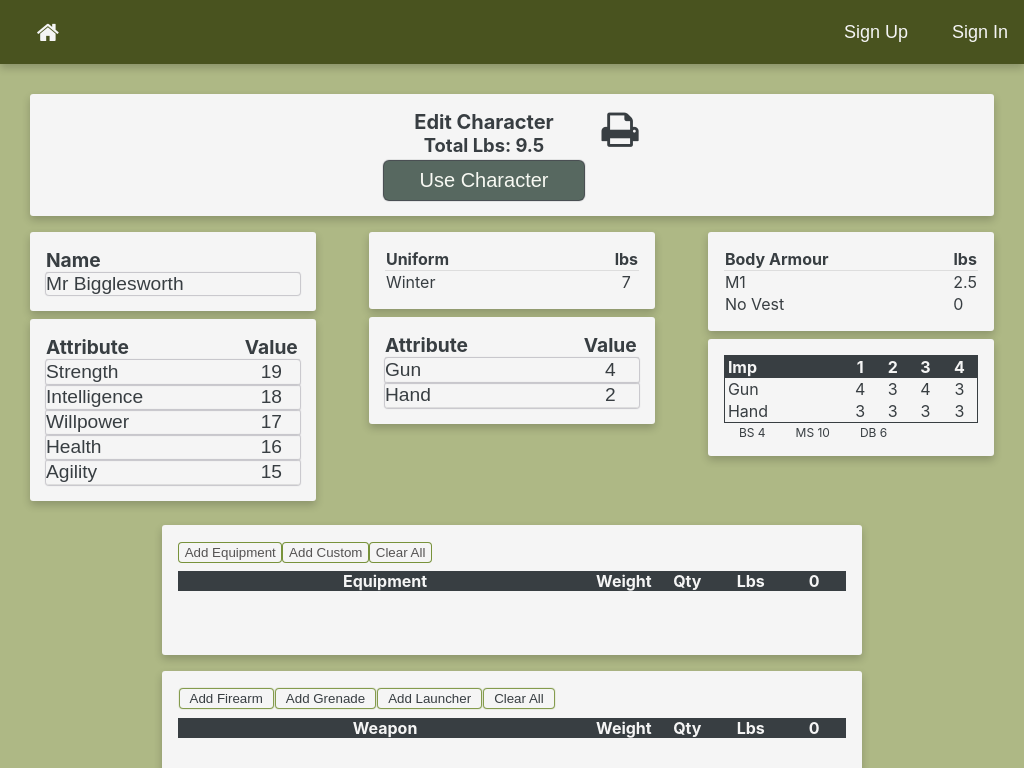
Scenario: Create Character › should add body armour
This screenshot has width=1024, height=768.
Click the text "No Vest" at (755, 304), box [724,293,953,315]
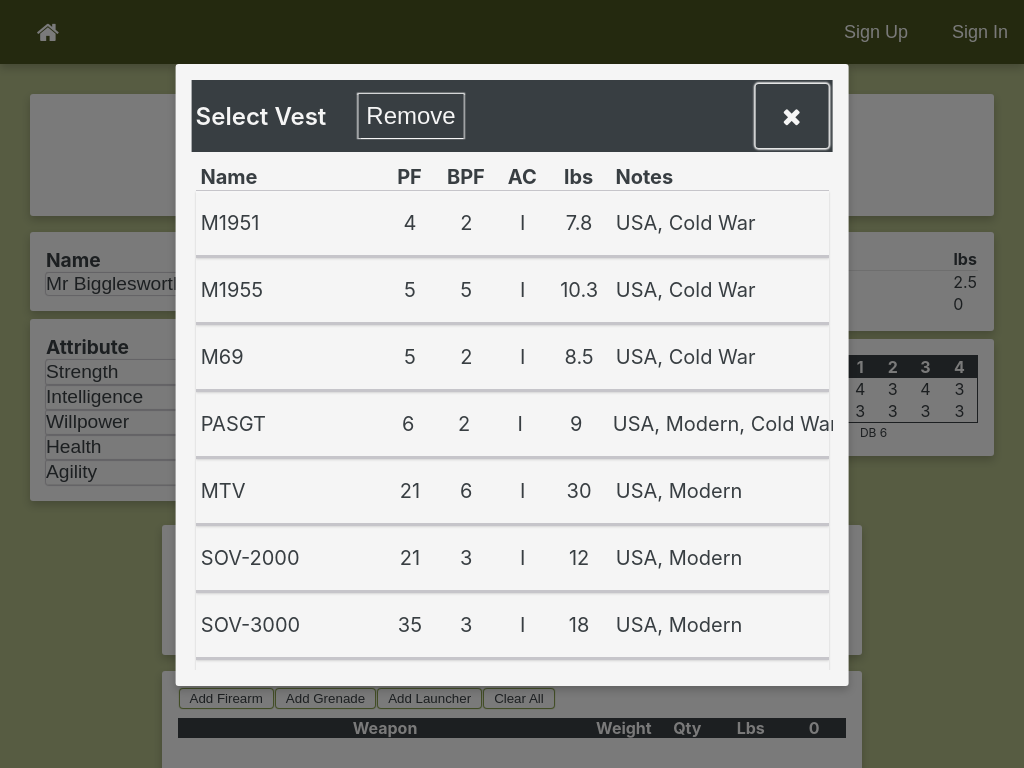
Click the text "M69" at (222, 357), box [196,344,389,370]
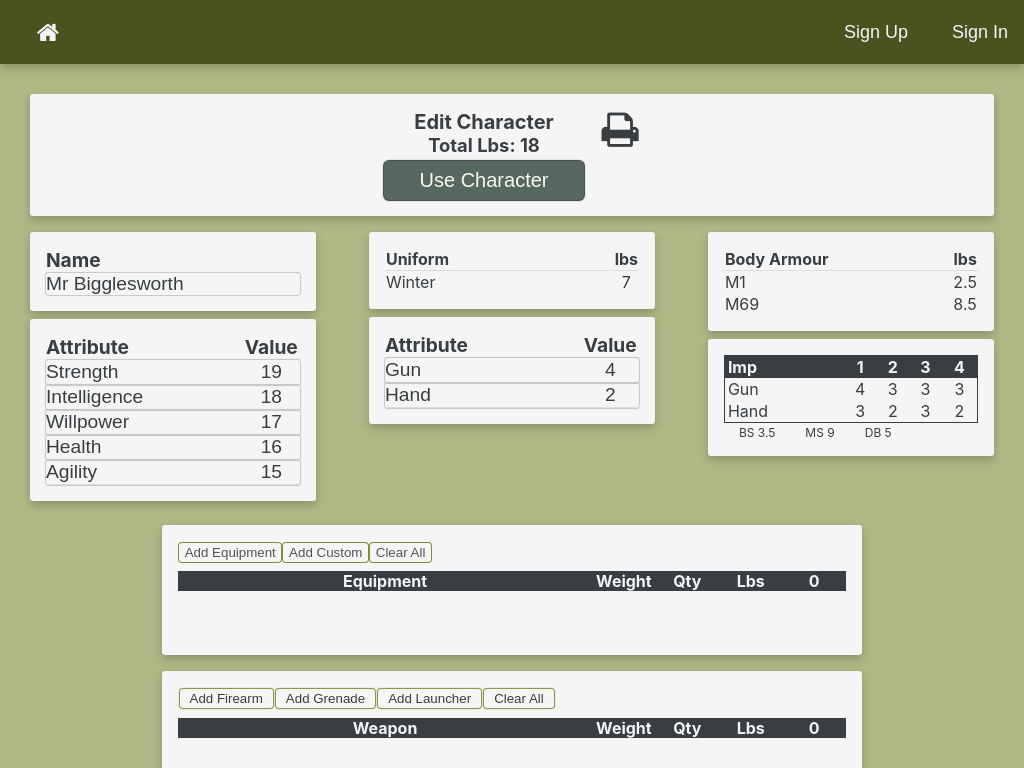
Expected: the text "M69" is shown, [724,293,952,315]
